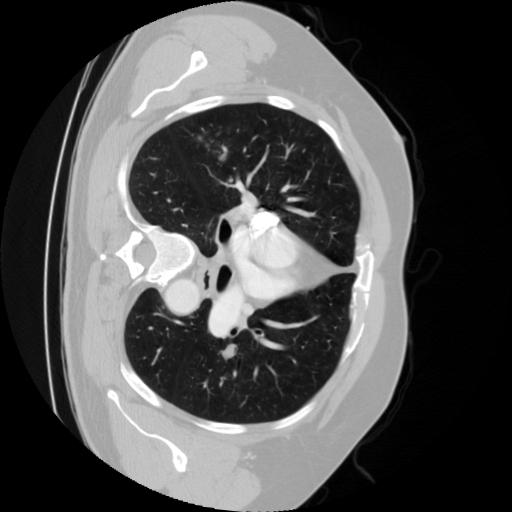nodule: (222, 342, 241, 361)
